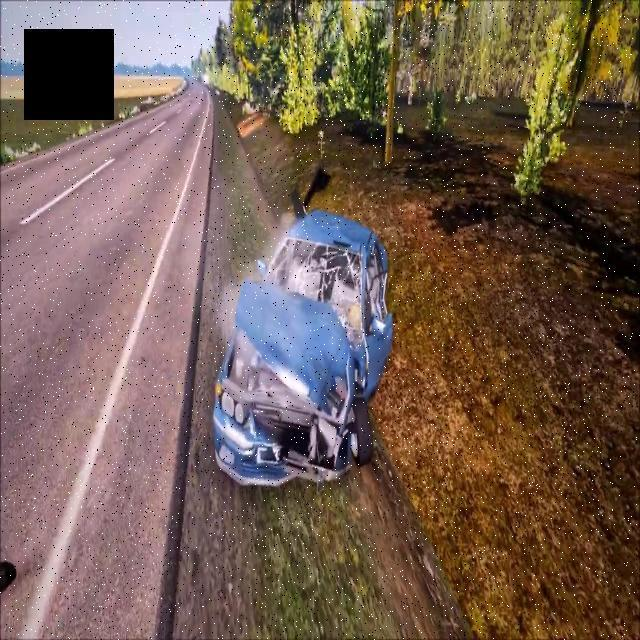multiple_accident: (149, 34, 430, 544)
